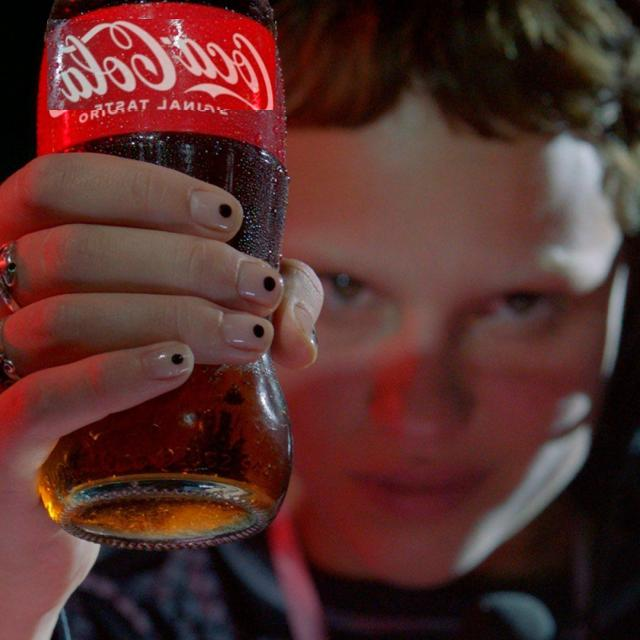coca-cola: (47, 19, 275, 110)
